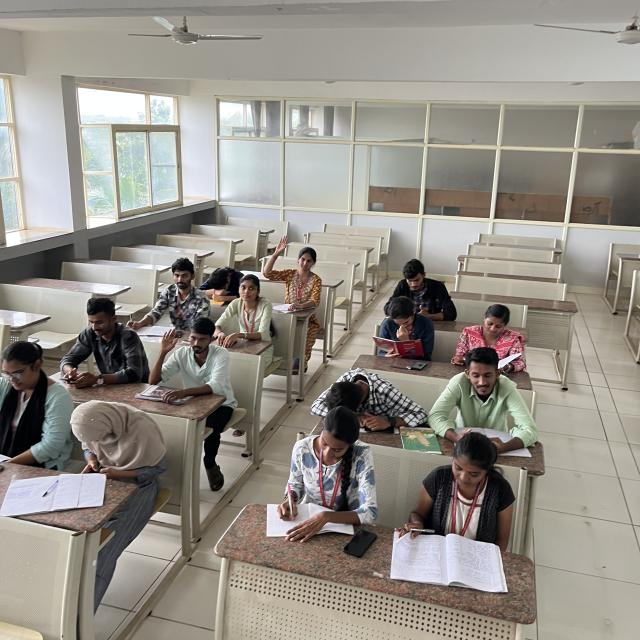Hand Rising: (145, 322, 243, 412), (262, 235, 326, 308)
Reading: (451, 304, 532, 378), (368, 296, 438, 357)
Sleeping: (309, 362, 414, 420), (200, 261, 251, 302)
Using Phone: (53, 298, 145, 394), (61, 394, 166, 478), (0, 342, 63, 478), (379, 255, 460, 320)
Writing: (392, 437, 510, 569), (263, 412, 373, 538)
